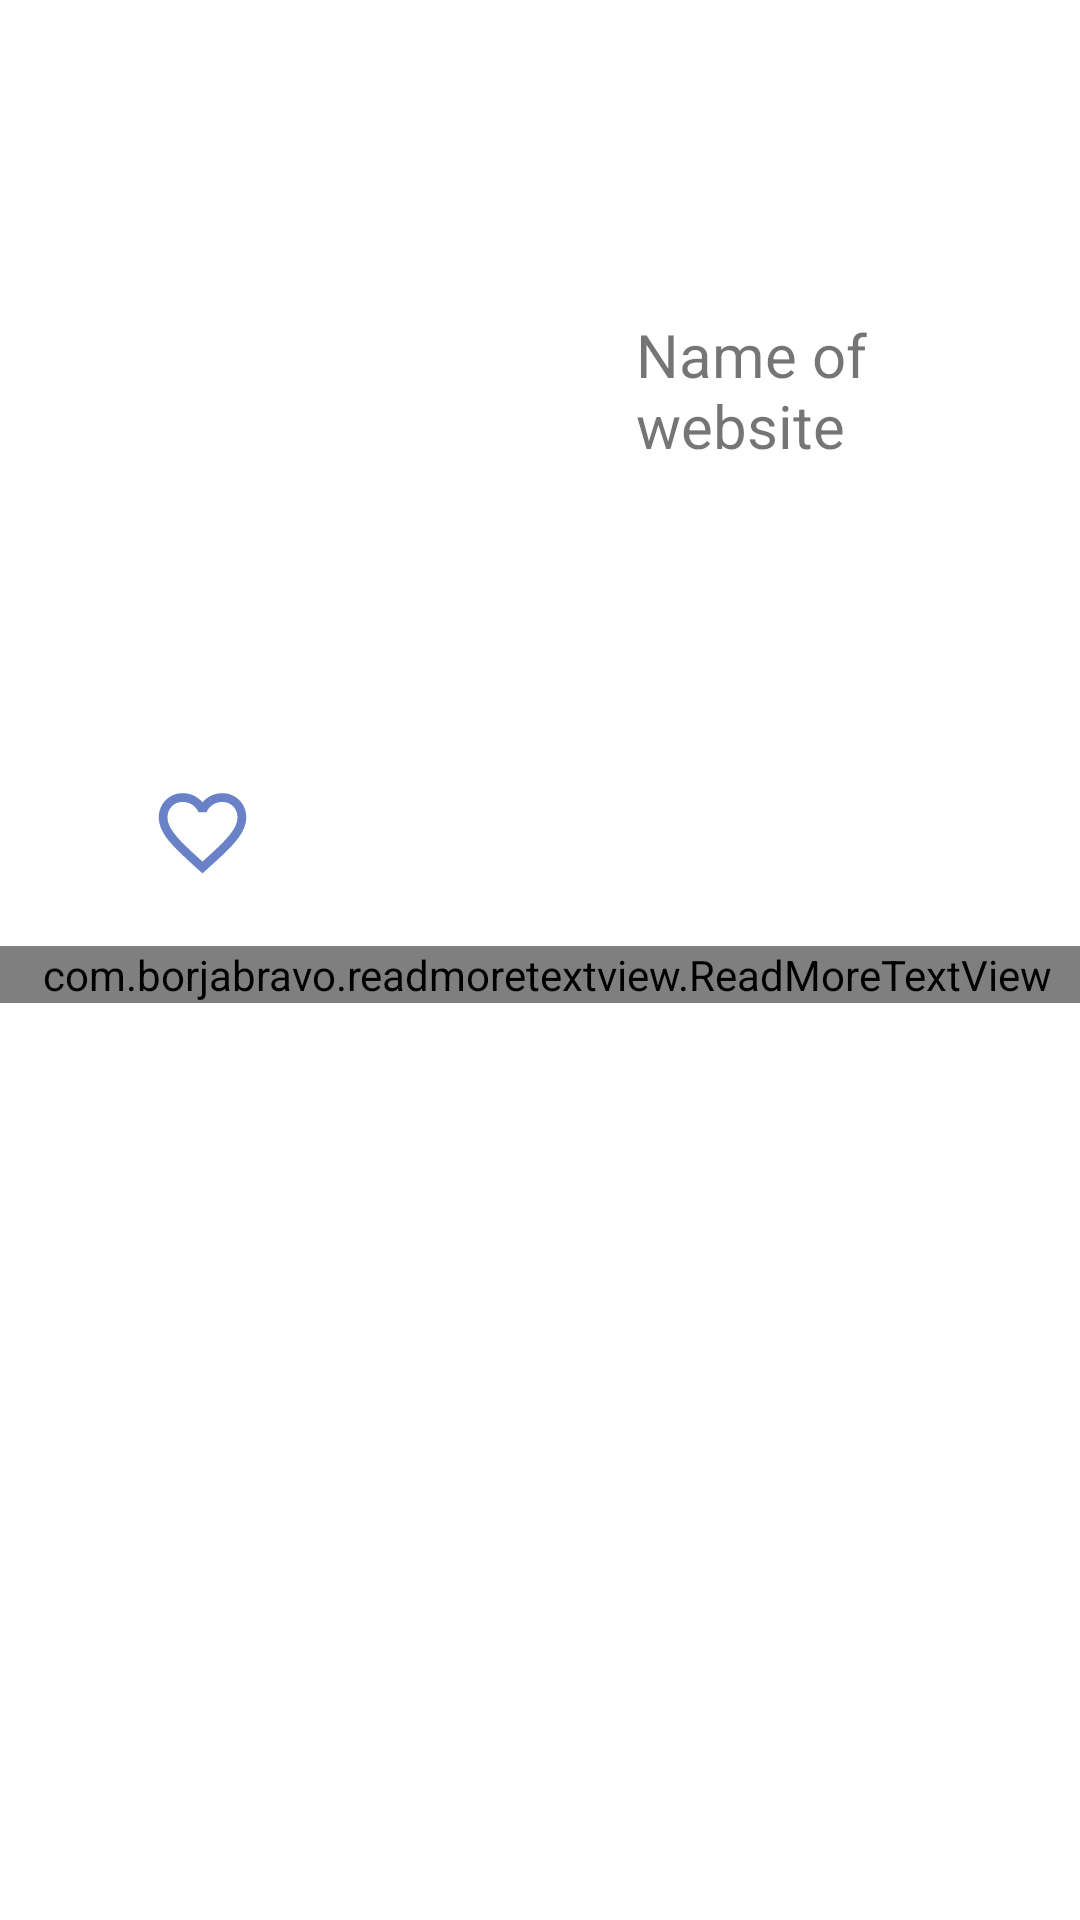

Locate icon controls on the screen. Image size 1080 × 1920, boxes as (x1, y1, x2, y2).
favorite border: (158, 793, 247, 873)
